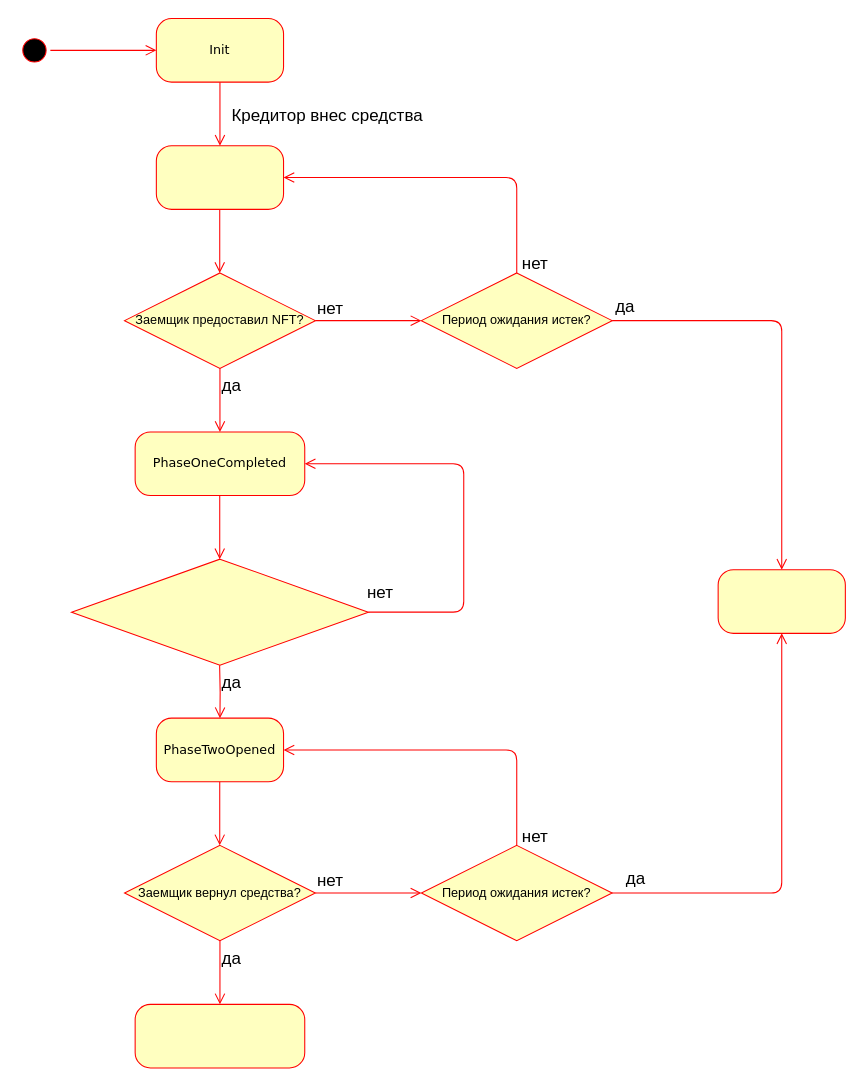
Some shapes in this 864 by 1087 pixel diagram are drawn without their labels. The box of each missing label's shape, as (x1, y1, x2, y2) in pixels:
PhaseOneOpened: (155, 145, 284, 209)
PhaseTwoCompleted: (134, 1003, 305, 1068)
RepoHalted: (717, 569, 845, 633)
Срок пользования кредитом истек?: (70, 558, 368, 665)
